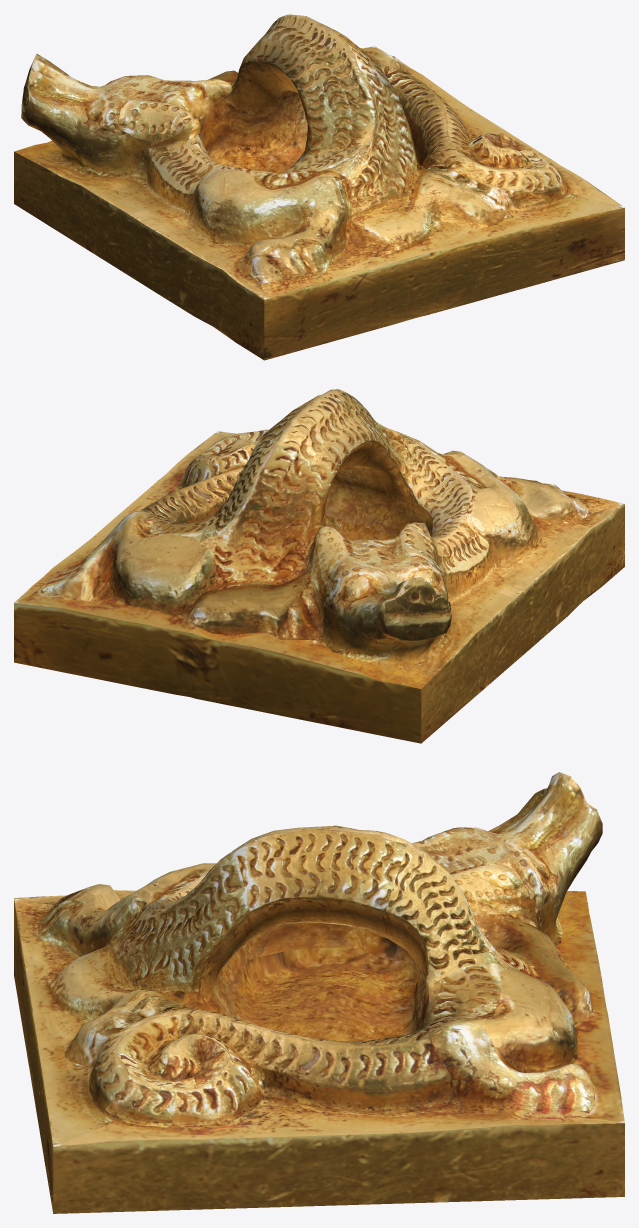
Rendered from jinyin.FBX.
3 views of the same model, one above another, from view 1: azimuth 30°, elevation 25°; view 2: azimuth 150°, elevation 25°; view 3: azimuth 270°, elevation 25° (orthographic). The views are drawn at different scales.
Parts seen in each view (by area): view 1: Object12; view 2: Object12; view 3: Object12.
Boxes of the visible parts, left/top/right/bottom form: Object12: left=14, top=14, right=624, bottom=360; Object12: left=14, top=389, right=624, bottom=743; Object12: left=14, top=772, right=624, bottom=1213.
Size of the model in its own units: 259 by 123 by 259.
